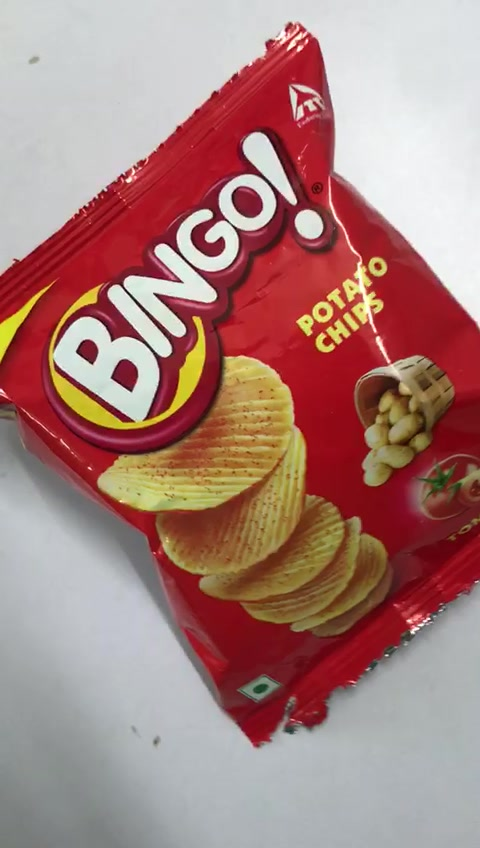bingo: (1, 46, 477, 722)
